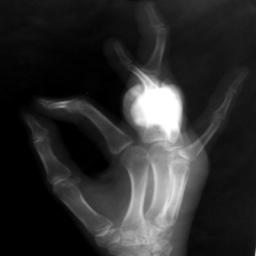cancer: (131, 80, 183, 141)
